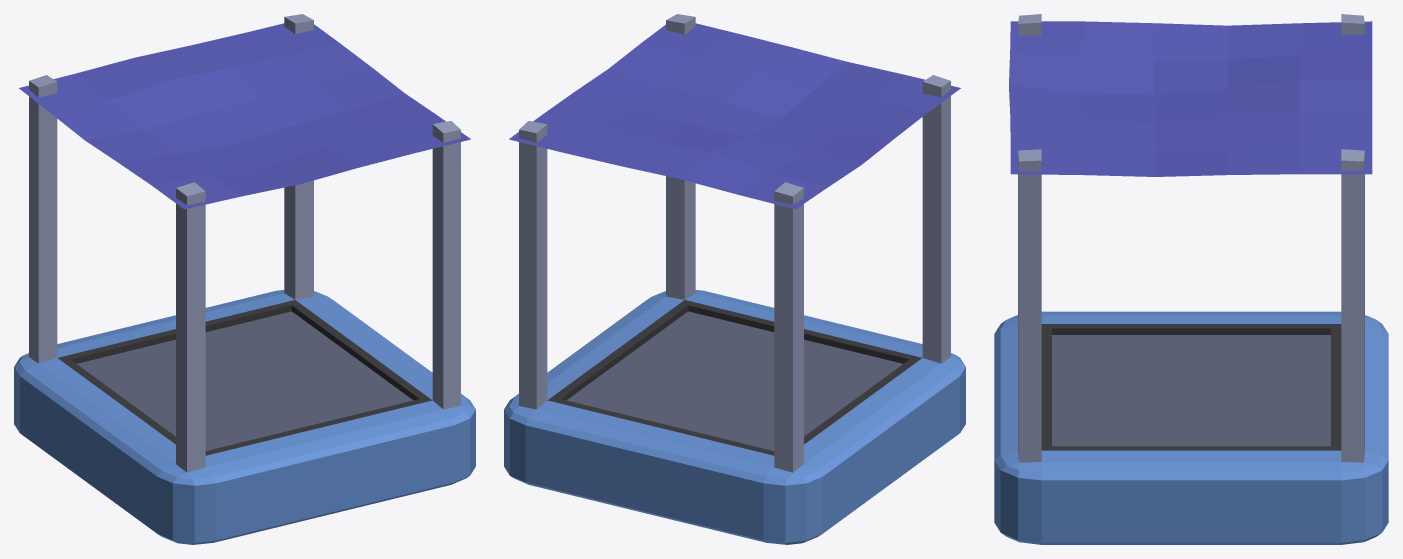
File: PlataformSafe.glb
The picture shows the model from 3 angles, left to right: view 1: azimuth 30°, elevation 25°; view 2: azimuth 150°, elevation 25°; view 3: azimuth 270°, elevation 25°; orthographic projection. The views are drawn at different scales.
Visible parts, largest first — view 1: Cube, Plane; view 2: Cube, Plane; view 3: Cube, Plane.
Part boxes in pixels (<box>): Cube: <box>14,14,475,544</box>; Plane: <box>19,23,470,209</box>; Cube: <box>504,14,965,544</box>; Plane: <box>509,23,960,209</box>; Cube: <box>994,14,1388,544</box>; Plane: <box>1009,21,1372,176</box>.
Size of the model in its own units: 6.35 by 6.81 by 6.35.
